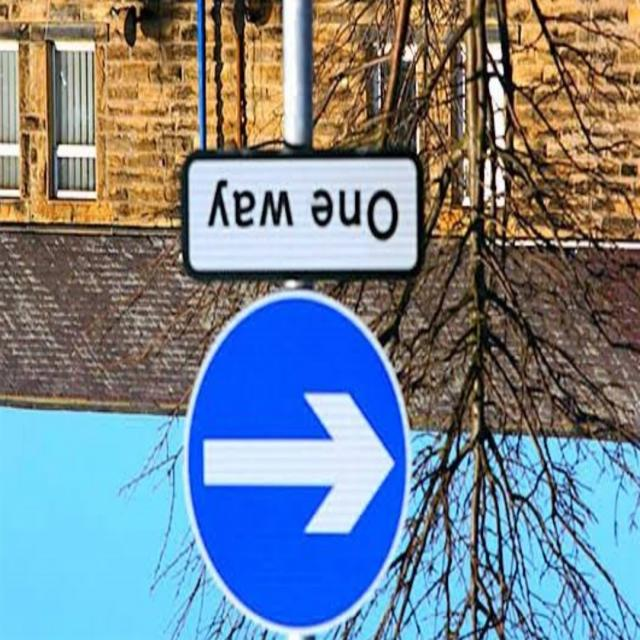Turn Right: (187, 287, 412, 626)
